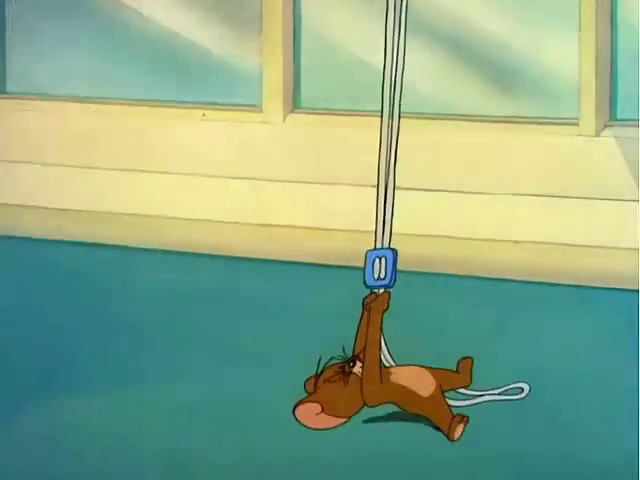jerry: (285, 250, 535, 458)
